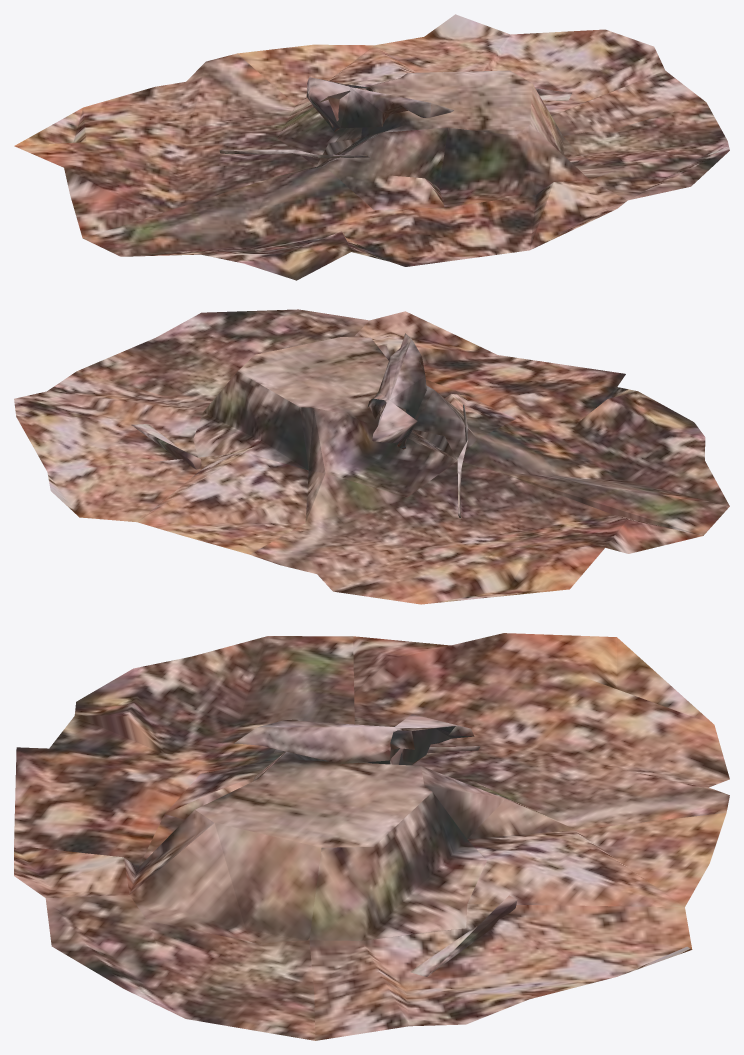
The model's file is wld_stump.glb.
3 renders of one model, top to bottom at view 1: azimuth 30°, elevation 25°; view 2: azimuth 150°, elevation 25°; view 3: azimuth 270°, elevation 25°, orthographic. The views are drawn at different scales.
Parts seen in each view (by area): view 1: defaultMaterial; view 2: defaultMaterial; view 3: defaultMaterial.
Boxes of the visible parts, left/top/right/bottom form: defaultMaterial: left=14, top=14, right=729, bottom=280; defaultMaterial: left=14, top=309, right=729, bottom=604; defaultMaterial: left=14, top=633, right=729, bottom=1040.
Size of the model in its own units: 4.5 by 0.6387 by 3.37.
Materials: 1 (1 with a texture image).
